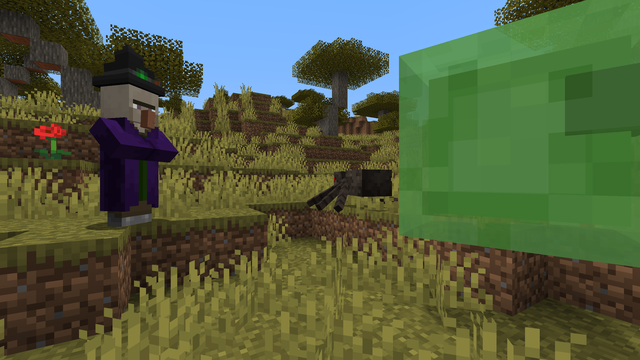araignees: (312, 164, 378, 213)
slimes: (384, 19, 619, 277)
sorcieres: (98, 74, 156, 228)
